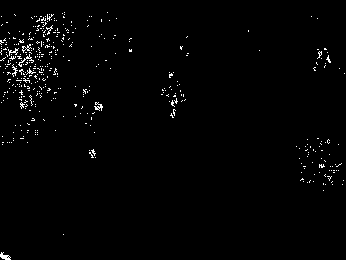person: (70, 88, 108, 164), (162, 68, 188, 123)
